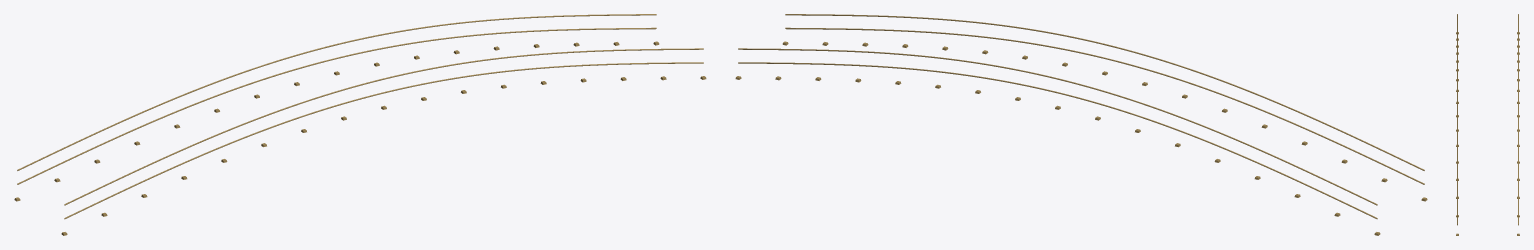
File: footbridge--patinated-bronze.glb
The picture shows the model from 3 angles, left to right: view 1: azimuth 30°, elevation 25°; view 2: azimuth 150°, elevation 25°; view 3: azimuth 270°, elevation 25°; orthographic projection. The views are drawn at different scales.
Visible parts, largest first — view 1: footbridge; view 2: footbridge; view 3: footbridge.
Boxes of the visible parts, x1,y1,x2,y2 form: footbridge: [14, 14, 706, 235]; footbridge: [735, 14, 1427, 235]; footbridge: [1456, 14, 1519, 235].
Bounding box in the file's own units: 16.1 × 1.88 × 2.14.
